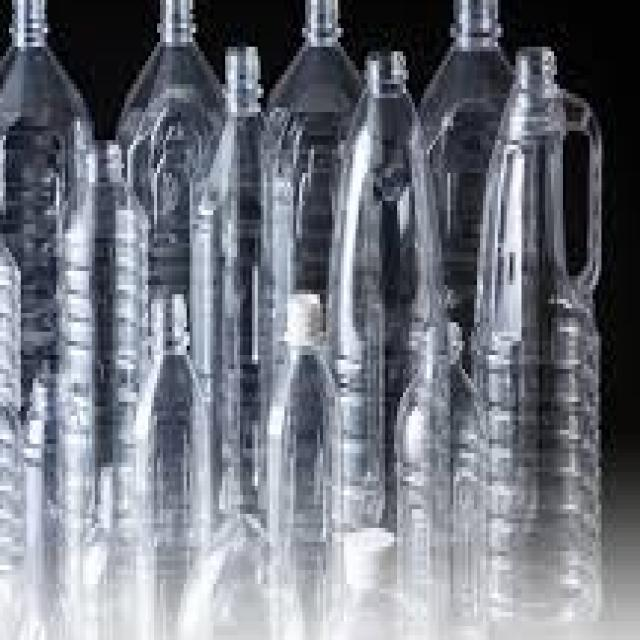organic: (8, 5, 609, 628)
